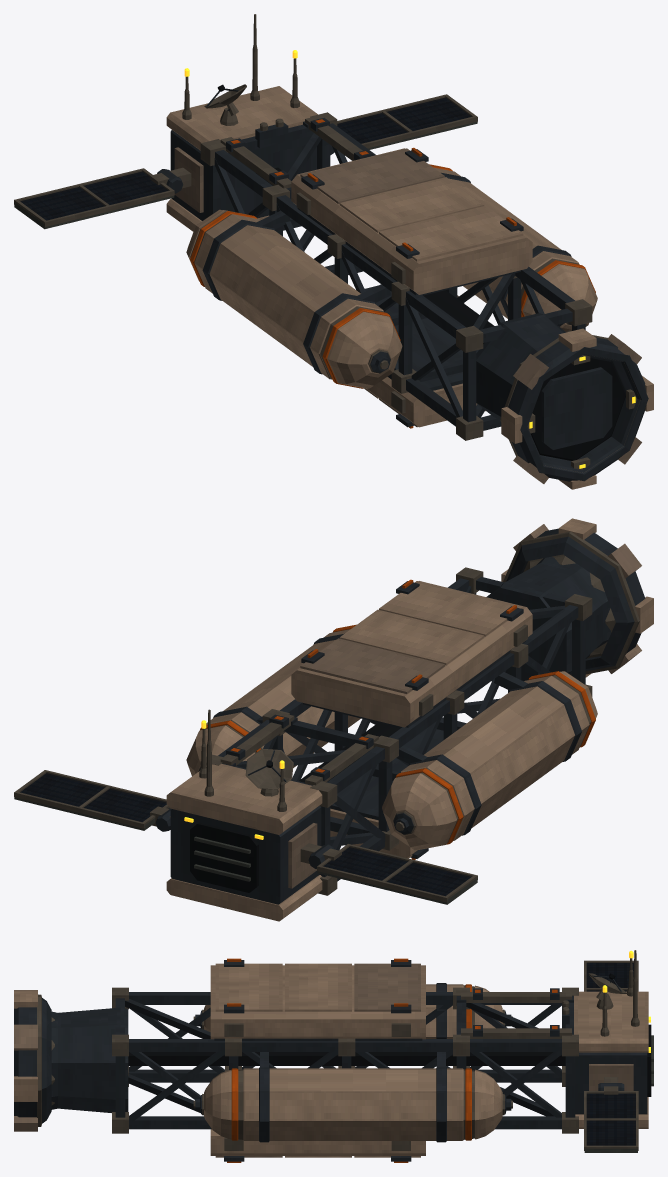
The model's file is base-depot-lod2.glb.
3 views of the same model, one above another, from view 1: azimuth 30°, elevation 25°; view 2: azimuth 150°, elevation 25°; view 3: azimuth 270°, elevation 25° (orthographic). The views are drawn at different scales.
Visible parts, largest first — view 1: Depot ceramic and hardware trim 2, Silica coverglass and photovoltaic cells 2; view 2: Depot ceramic and hardware trim 2, Silica coverglass and photovoltaic cells 2; view 3: Depot ceramic and hardware trim 2, Silica coverglass and photovoltaic cells 2.
Boxes of the visible parts, x1=… form: Depot ceramic and hardware trim 2: x1=14, y1=14, x2=653, y2=489; Silica coverglass and photovoltaic cells 2: x1=20, y1=97, x2=471, y2=220; Depot ceramic and hardware trim 2: x1=14, y1=518, x2=653, y2=921; Silica coverglass and photovoltaic cells 2: x1=20, y1=773, x2=471, y2=896; Depot ceramic and hardware trim 2: x1=14, y1=950, x2=653, y2=1162; Silica coverglass and photovoltaic cells 2: x1=586, y1=963, x2=635, y2=1145.
Size of the model in its own units: 26.5 by 13.21 by 38.47.
4 materials, 2 textured.
